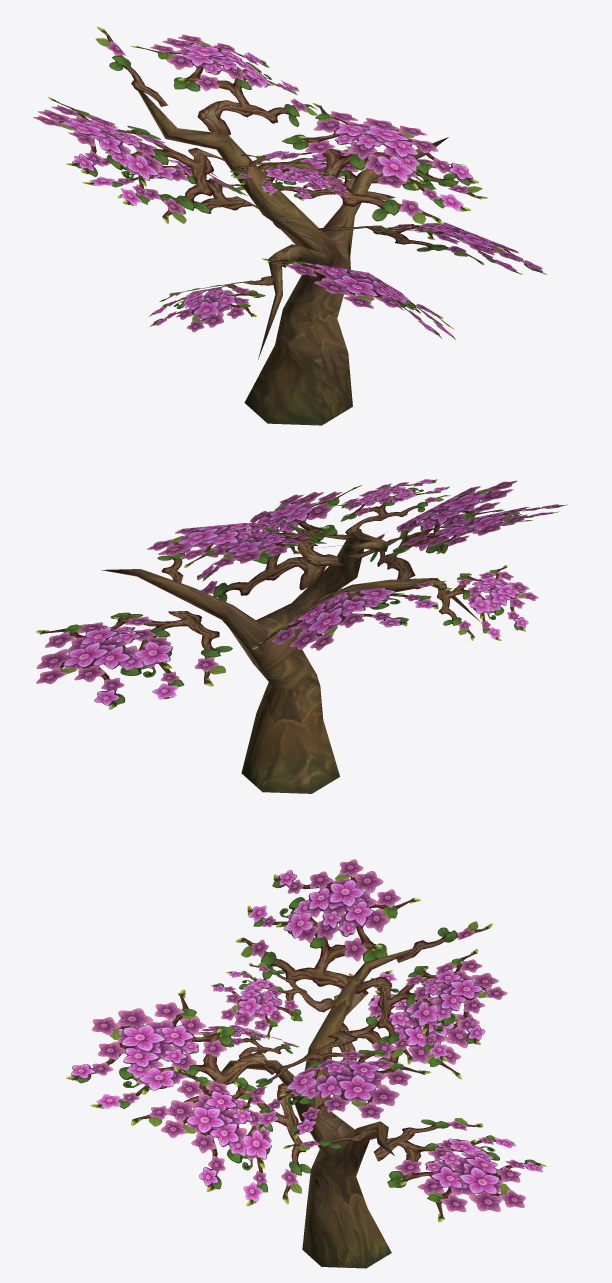
Rendered from szc_tree_taoshu_02.FBX.
The picture shows the model from 3 angles, top to bottom: view 1: azimuth 30°, elevation 25°; view 2: azimuth 150°, elevation 25°; view 3: azimuth 270°, elevation 25°; orthographic projection. The views are drawn at different scales.
Visible parts, largest first — view 1: szc_tree_taoshu_02_ye, szc_tree_taoshu_02_gan; view 2: szc_tree_taoshu_02_ye, szc_tree_taoshu_02_gan; view 3: szc_tree_taoshu_02_ye, szc_tree_taoshu_02_gan.
Part boxes in pixels (x1=…): szc_tree_taoshu_02_ye: x1=33, y1=26, x2=546, y2=340; szc_tree_taoshu_02_gan: x1=132, y1=80, x2=448, y2=425; szc_tree_taoshu_02_ye: x1=36, y1=479, x2=567, y2=709; szc_tree_taoshu_02_gan: x1=101, y1=531, x2=480, y2=793; szc_tree_taoshu_02_ye: x1=66, y1=859, x2=546, y2=1222; szc_tree_taoshu_02_gan: x1=221, y1=949, x2=411, y2=1268.
Size of the model in its own units: 448 by 274 by 477.
